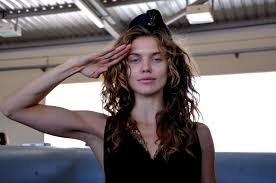s.white: (148, 64, 166, 80)
